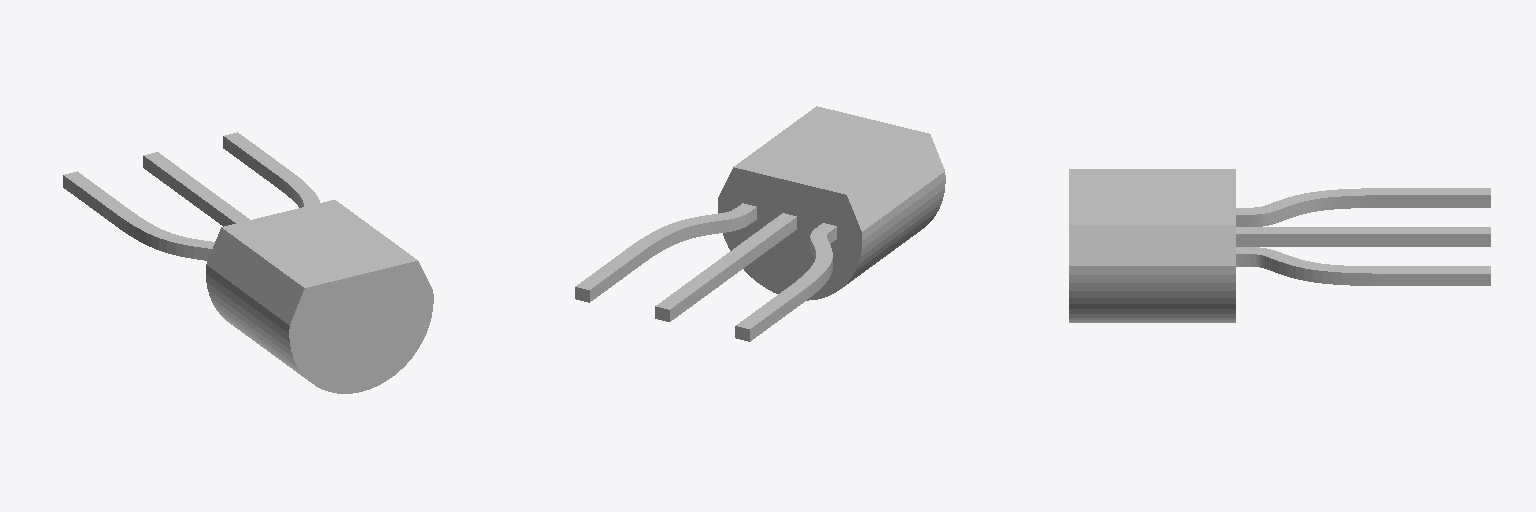
The model's file is TO-92 Formed Leads.obj.
The picture shows the model from 3 angles: view 1: azimuth 30°, elevation 25°; view 2: azimuth 150°, elevation 25°; view 3: azimuth 270°, elevation 25°; orthographic projection.
Parts seen in each view (by area): view 1: Solid1, Solid4, Solid2, Solid3; view 2: Solid1, Solid3, Solid2, Solid4; view 3: Solid1, Solid3, Solid4, Solid2.
Boxes of the visible parts, x1=… form: Solid1: x1=206, y1=200, x2=433, y2=393; Solid4: x1=63, y1=171, x2=214, y2=260; Solid2: x1=143, y1=152, x2=249, y2=226; Solid3: x1=223, y1=132, x2=319, y2=207; Solid1: x1=718, y1=106, x2=945, y2=300; Solid3: x1=575, y1=203, x2=756, y2=302; Solid2: x1=655, y1=213, x2=796, y2=321; Solid4: x1=735, y1=223, x2=836, y2=341; Solid1: x1=1069, y1=169, x2=1235, y2=322; Solid3: x1=1236, y1=247, x2=1490, y2=285; Solid4: x1=1236, y1=188, x2=1490, y2=226; Solid2: x1=1236, y1=227, x2=1490, y2=246.
Size of the model in its own units: 5.54 by 3.56 by 11.58.